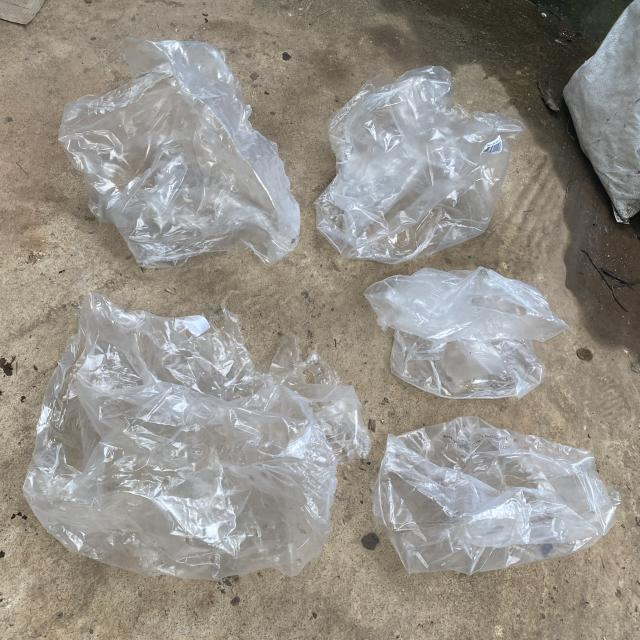Single-layer Plastic: (24, 294, 370, 580), (59, 39, 300, 268), (315, 66, 525, 264), (372, 416, 620, 574), (365, 268, 569, 399)
